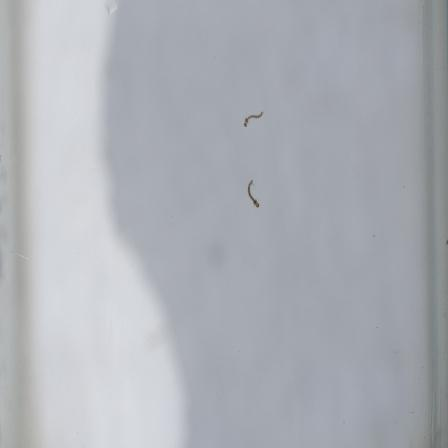Jentik-Nyamuk: (243, 108, 271, 133), (245, 179, 265, 211)
